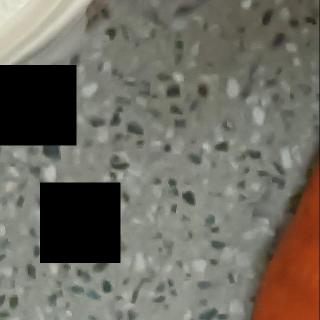carrot: (243, 0, 320, 320)
